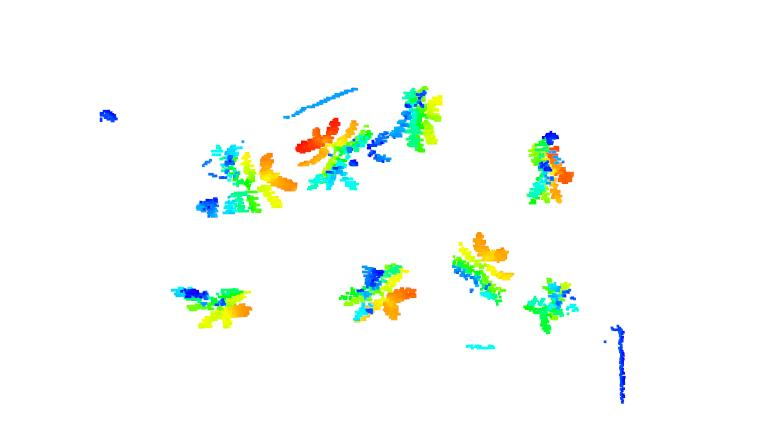chickpea: (192, 139, 299, 225), (294, 116, 374, 193), (369, 84, 446, 164), (338, 259, 417, 326), (451, 230, 514, 310), (524, 127, 576, 210), (168, 282, 254, 332), (519, 274, 583, 335)
